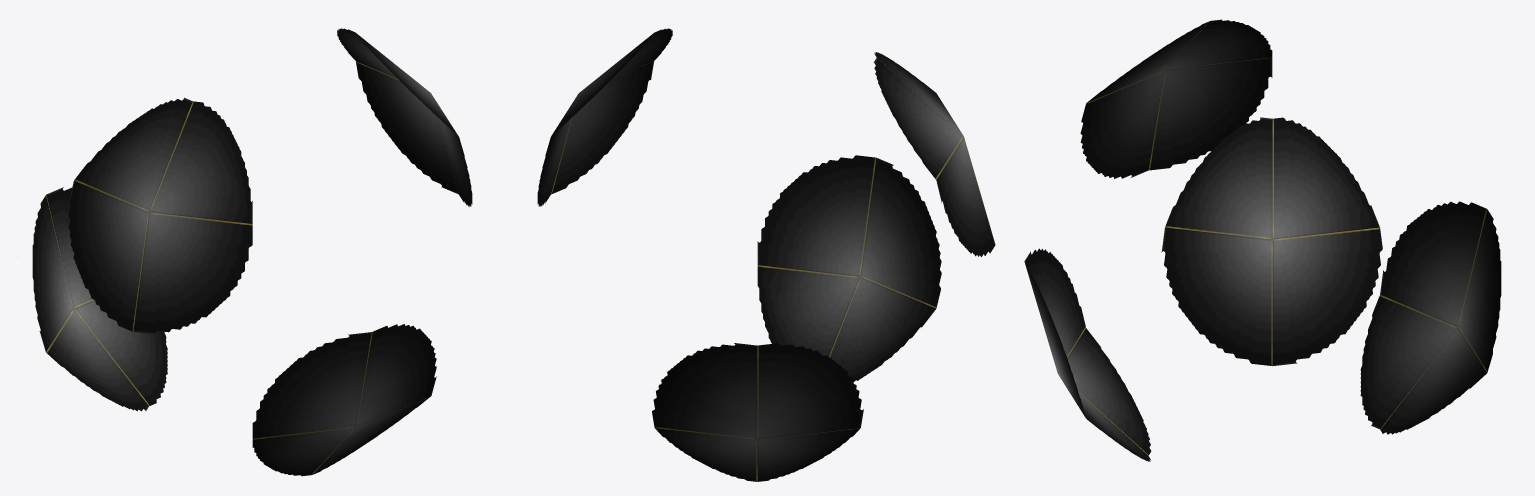
The picture shows the model from 3 angles, left to right: view 1: azimuth 30°, elevation 25°; view 2: azimuth 150°, elevation 25°; view 3: azimuth 270°, elevation 25°; orthographic projection. The views are drawn at different scales.
Parts seen in each view (by area): view 1: T1L2M008_33; view 2: T1L2M008_33; view 3: T1L2M008_33.
Boxes of the visible parts, x1,y1,x2,y2 form: T1L2M008_33: [32, 28, 472, 476]; T1L2M008_33: [537, 28, 995, 481]; T1L2M008_33: [1024, 19, 1501, 461].
Bounding box in the file's own units: 0.7998 × 0.6924 × 0.7998.
Materials: 1 (1 with a texture image).
